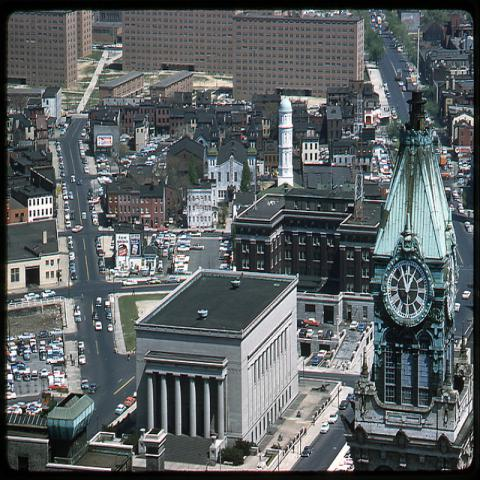car: (71, 224, 84, 233), (190, 244, 204, 250), (94, 321, 102, 331), (104, 300, 110, 311), (76, 178, 84, 186), (106, 310, 112, 320), (107, 323, 114, 331), (81, 212, 87, 221), (93, 311, 98, 320)
truck: (440, 155, 447, 170), (406, 74, 411, 90), (96, 296, 102, 307), (396, 69, 402, 78)
